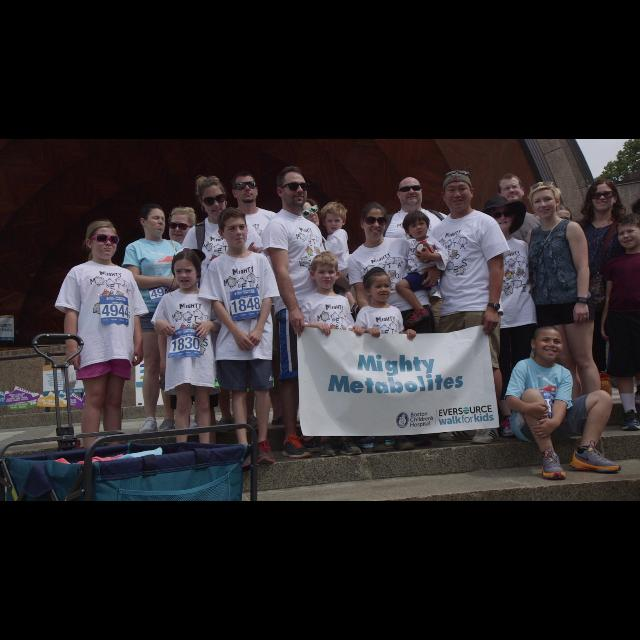head: (441, 170, 475, 212), (196, 176, 228, 220), (276, 168, 308, 210), (530, 323, 564, 362), (85, 221, 117, 261), (309, 252, 341, 290), (529, 182, 561, 220), (172, 250, 202, 290), (218, 208, 248, 248), (168, 208, 198, 244), (360, 203, 388, 241), (230, 171, 260, 205), (488, 200, 518, 232), (589, 180, 619, 212), (364, 268, 392, 302), (140, 204, 167, 238), (402, 211, 430, 239), (497, 175, 525, 203), (397, 178, 423, 206), (297, 199, 321, 229), (322, 204, 346, 234)
person: (496, 177, 610, 443), (412, 168, 512, 454), (257, 168, 353, 464), (340, 196, 446, 458), (49, 213, 147, 492), (178, 170, 274, 442), (464, 190, 558, 448), (381, 174, 481, 416), (200, 202, 284, 478), (476, 172, 570, 412), (216, 167, 296, 436), (498, 322, 628, 486), (146, 247, 230, 486), (116, 200, 194, 440), (142, 202, 220, 436), (294, 250, 370, 464), (346, 264, 419, 464), (282, 188, 350, 396), (390, 210, 450, 332), (310, 198, 352, 326)
